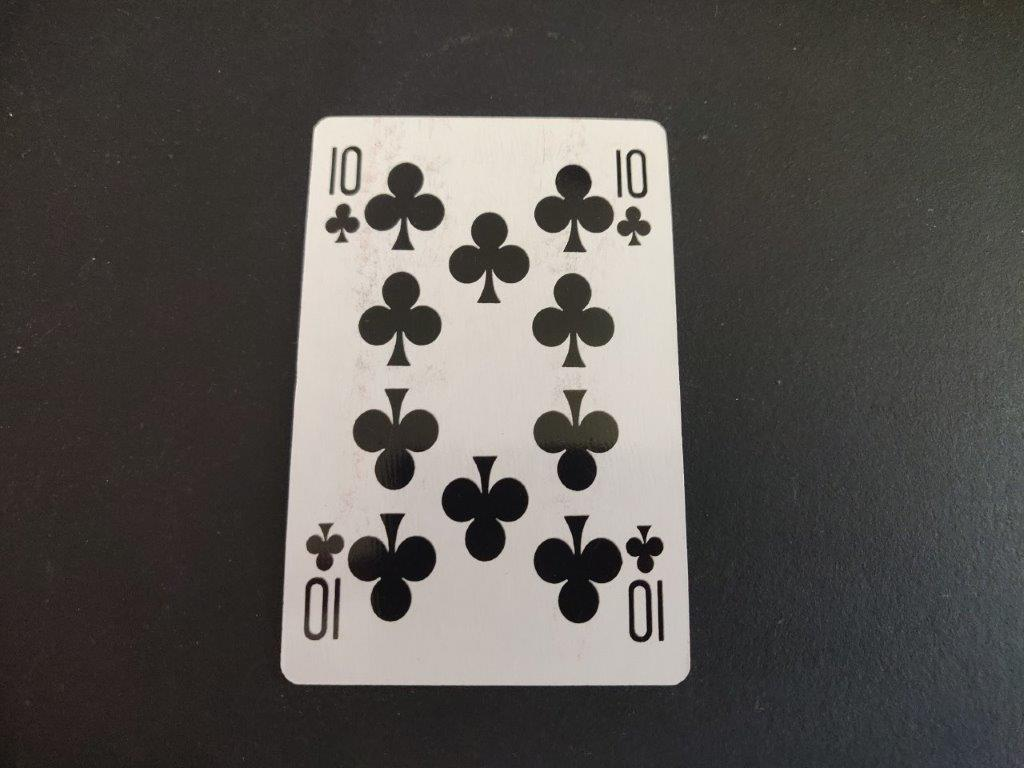10C: (611, 144, 658, 257), (320, 141, 365, 248)
